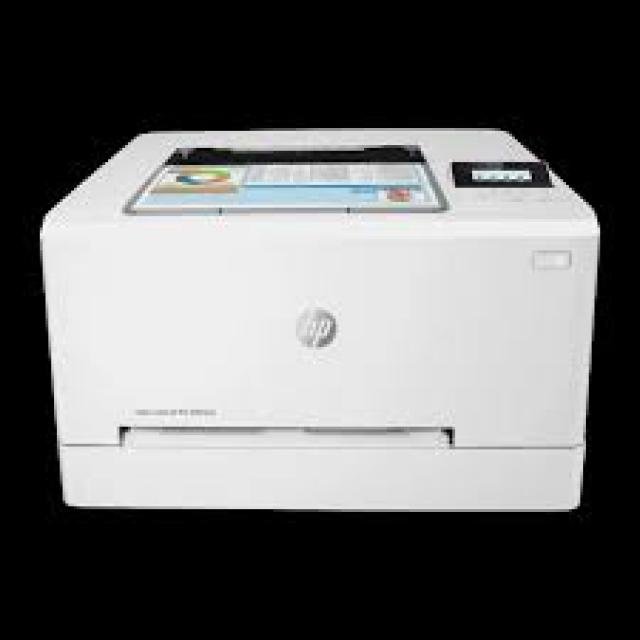printer: (37, 125, 600, 512)
